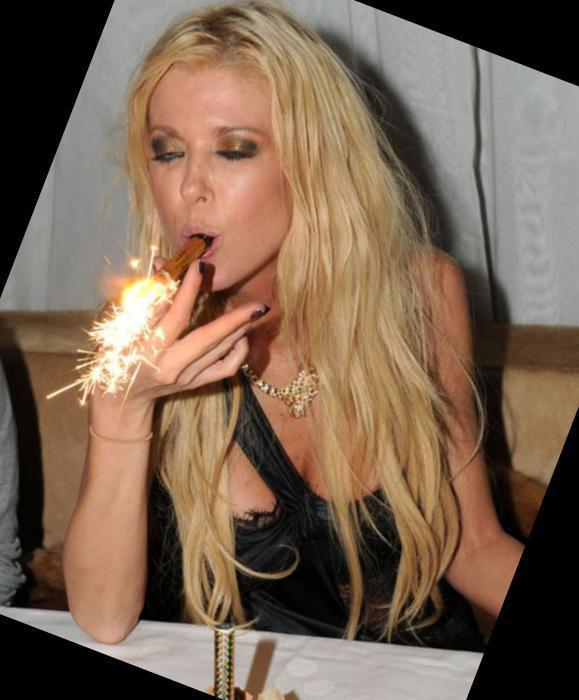Drunk: (151, 80, 293, 288)
